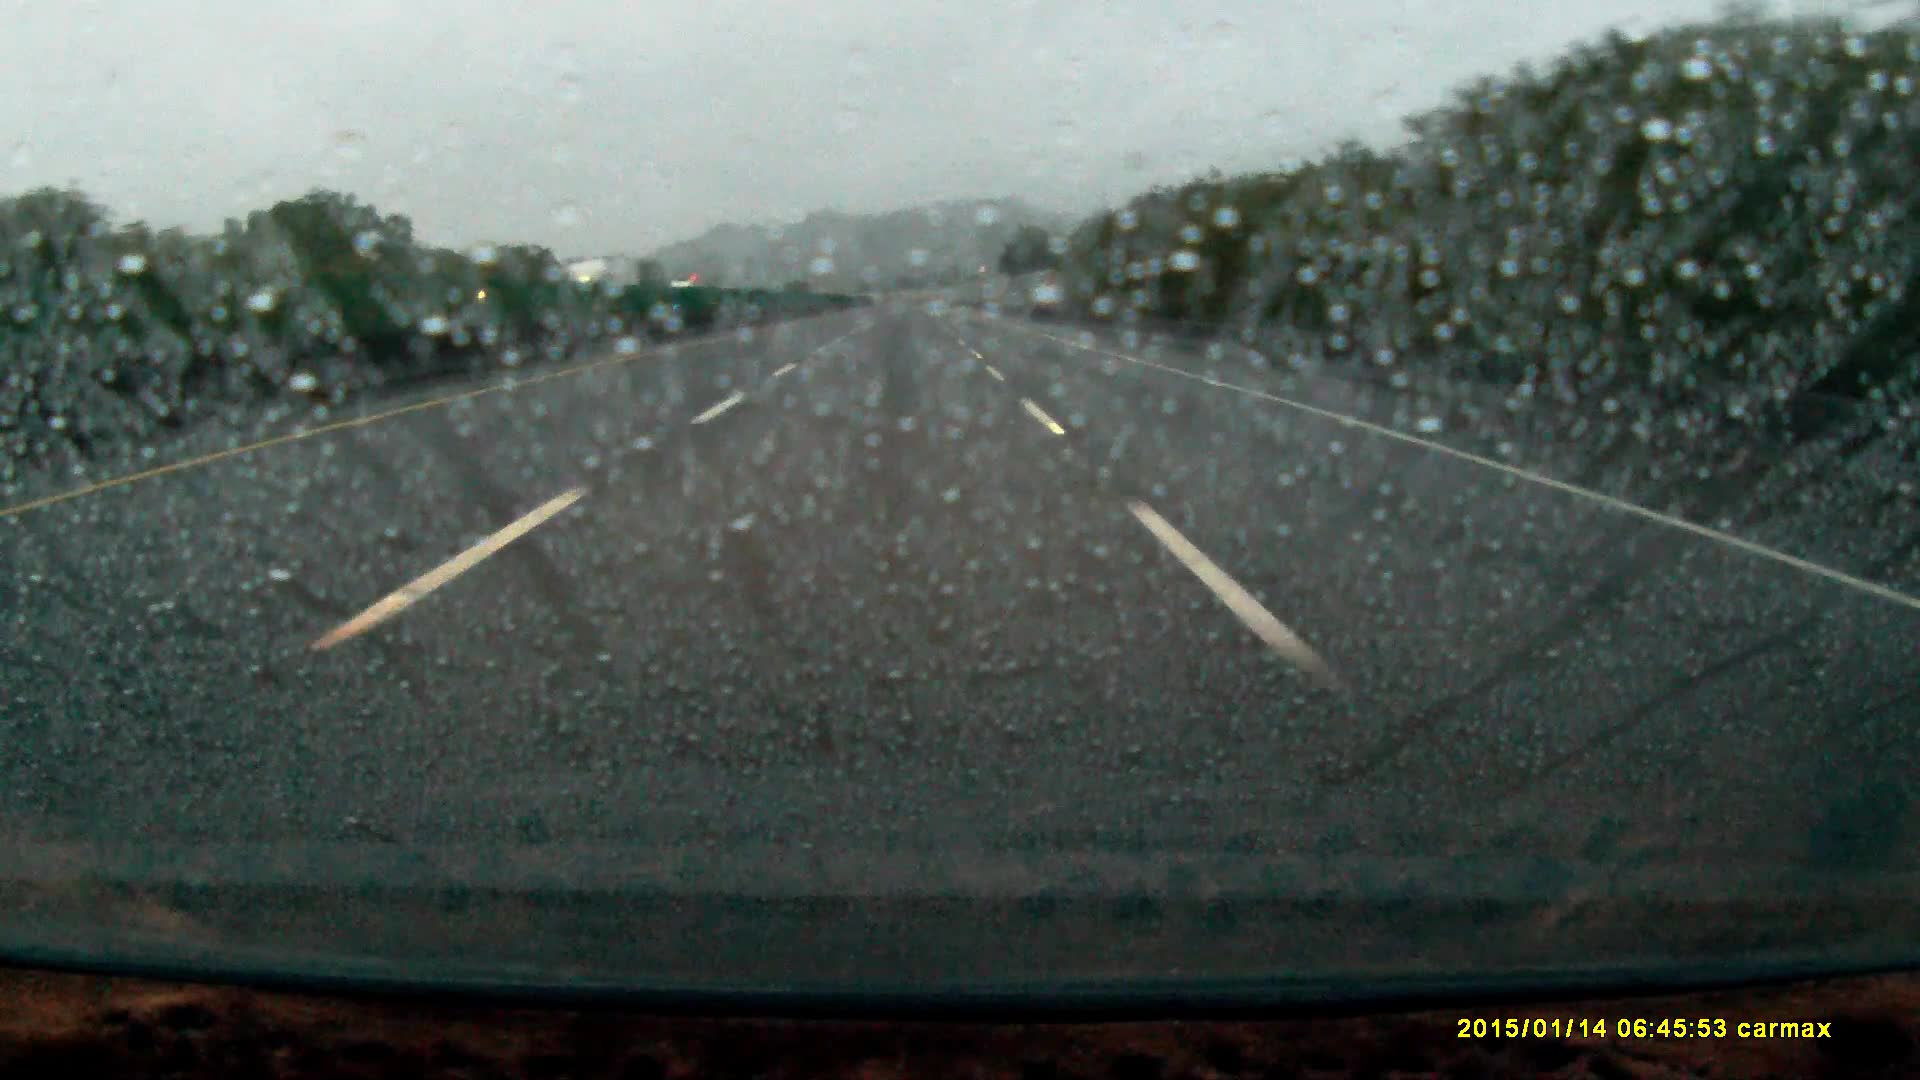vehicle: (669, 277, 708, 309)
